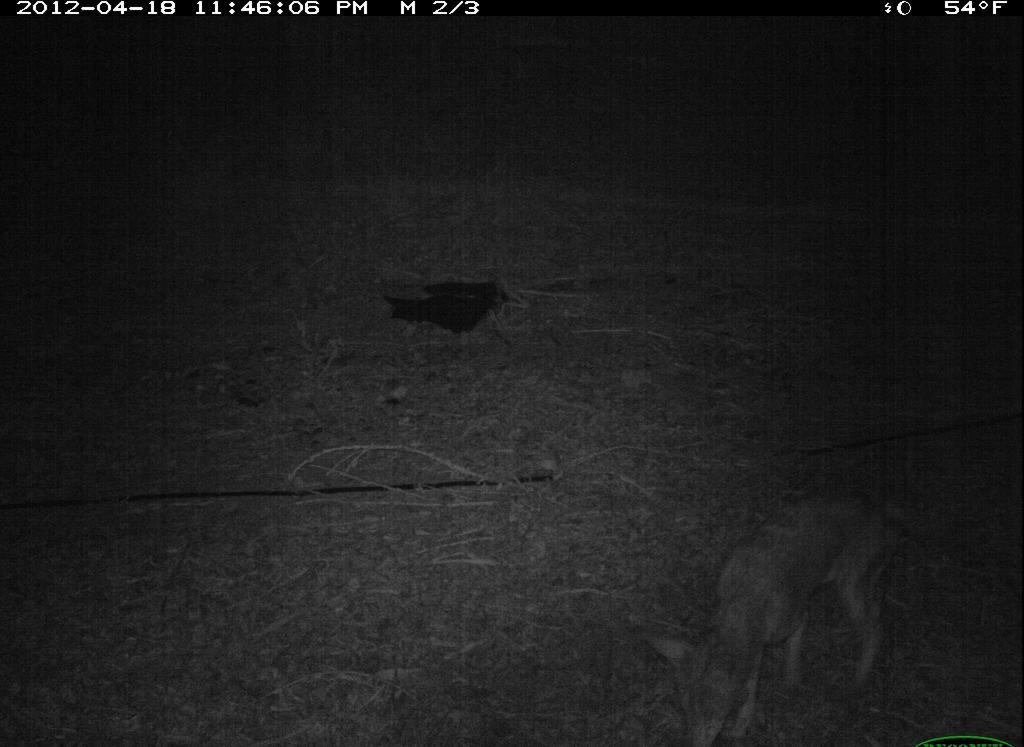coyote: (623, 438, 908, 747)
